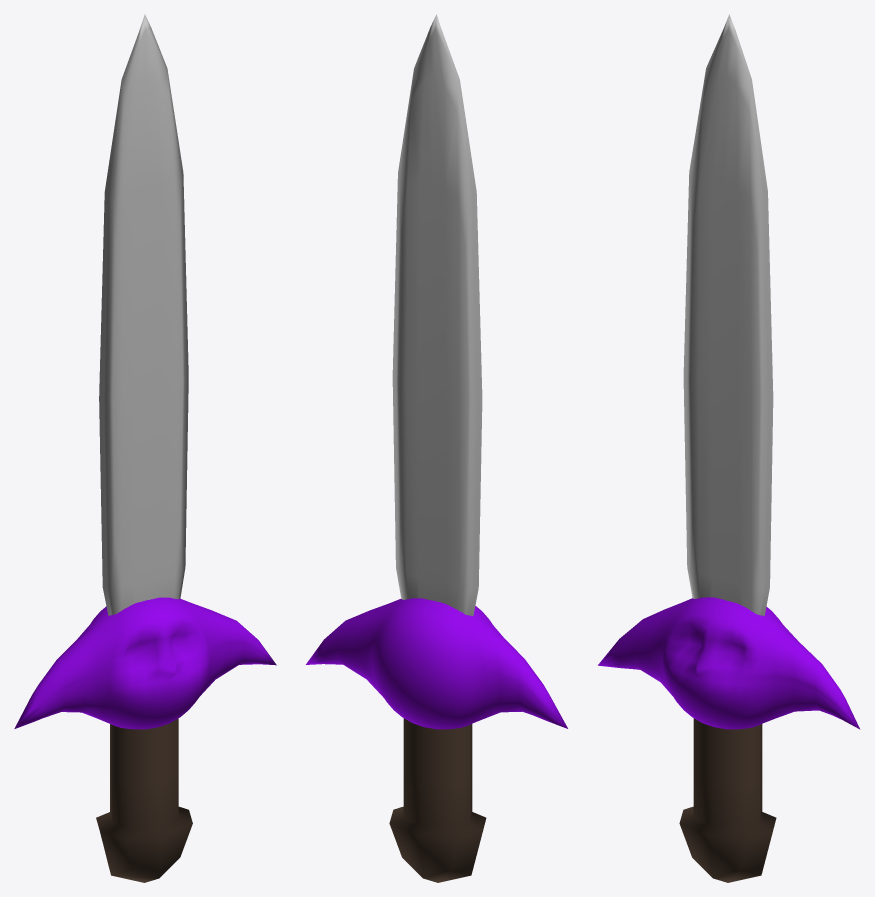
The model's file is DemonSword.fbx.
The picture shows the model from 3 angles, left to right: view 1: azimuth 30°, elevation 25°; view 2: azimuth 150°, elevation 25°; view 3: azimuth 330°, elevation 25°; orthographic projection.
Visible parts, largest first — view 1: demonSword2; view 2: demonSword2; view 3: demonSword2.
Boxes of the visible parts, x1,y1,x2,y2 form: demonSword2: (14,14,276,882); demonSword2: (306,14,567,882); demonSword2: (598,14,860,882).
Size of the model in its own units: 3.23 by 10.2 by 1.23.
